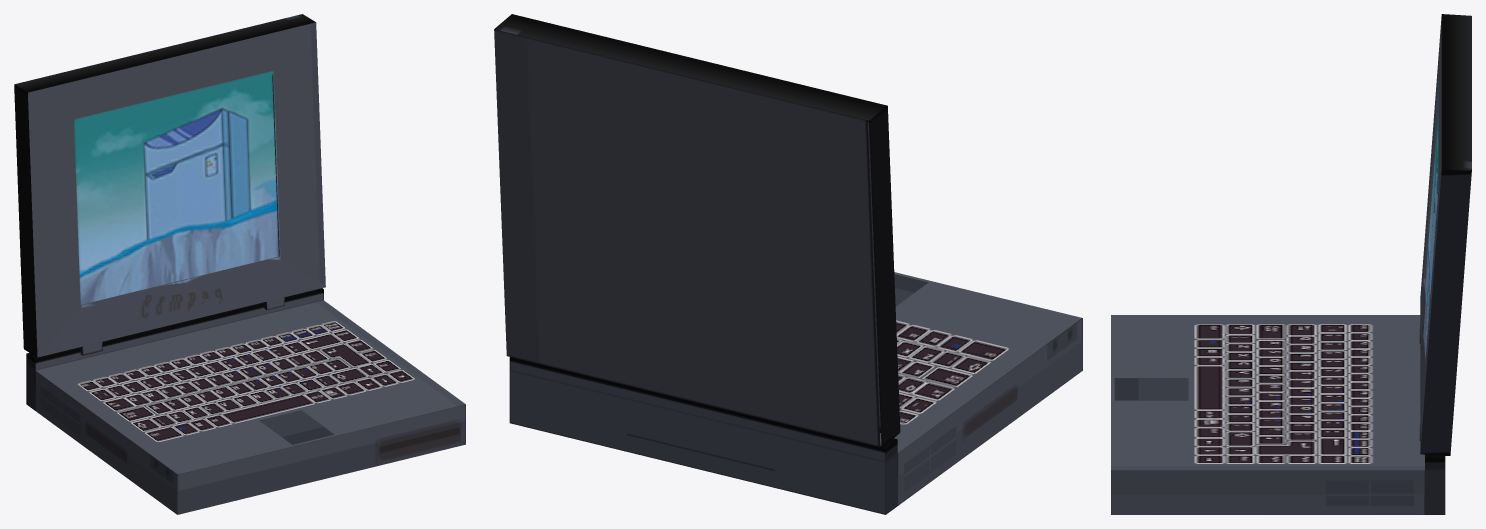
File: 90LaptopOpened.fbx
3 views of the same model, side by side, from view 1: azimuth 30°, elevation 25°; view 2: azimuth 150°, elevation 25°; view 3: azimuth 270°, elevation 25° (orthographic). The views are drawn at different scales.
Visible parts, largest first — view 1: BOT; view 2: BOT; view 3: BOT.
Boxes of the visible parts, left/top/right/bottom form: BOT: left=14, top=14, right=465, bottom=514; BOT: left=494, top=14, right=1082, bottom=514; BOT: left=1111, top=14, right=1471, bottom=514.
Size of the model in its own units: 3.71 by 3.84 by 3.64.
